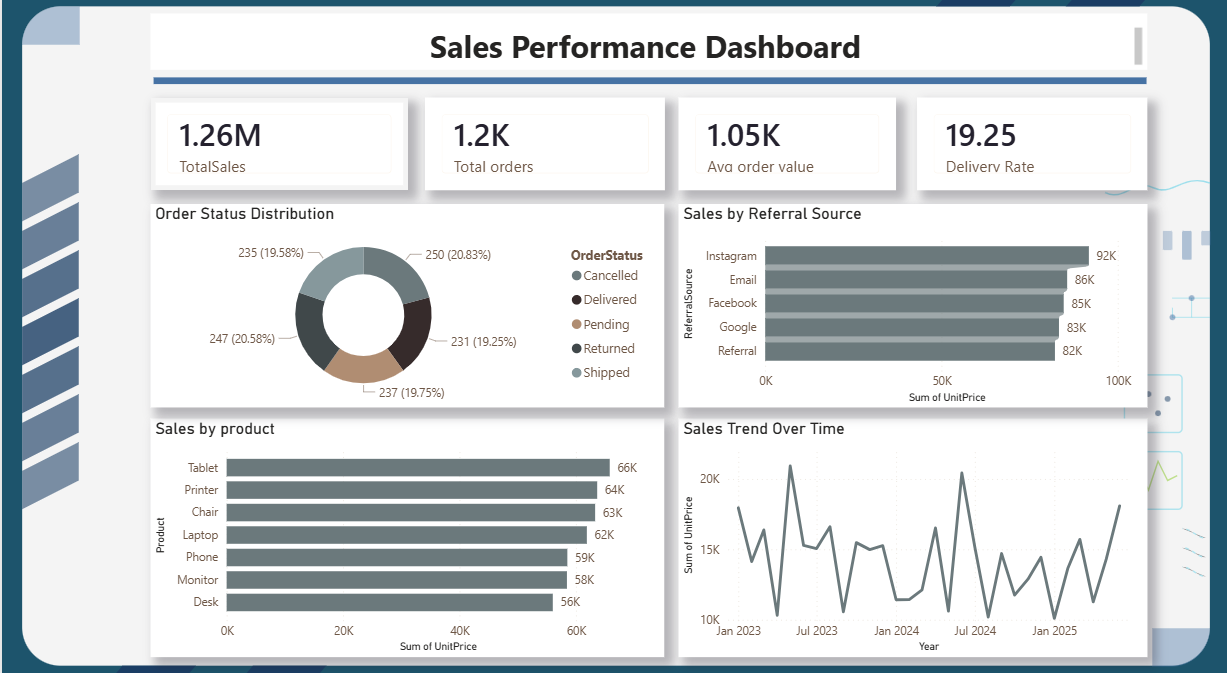

The dashboard page shown, as its layout file describes it:
{"tool":"powerbi","page":{"name":"Page 1","canvas":[1280,720],"ordinal":0},"visuals":[{"type":"cardVisual","fields":{"Data":["Sum(Fact_Sales.TotalPrice)"]},"box":[155,111.7,268.3,96.7],"z":0},{"type":"cardVisual","fields":{"Data":["Count(Fact_Sales.OrderID)"]},"box":[440,111.7,250,96.7],"z":1000},{"type":"cardVisual","fields":{"Data":["Fact_Sales.Delivery Rate"]},"box":[953.3,111.7,240,96.7],"z":2000},{"type":"cardVisual","fields":{"Data":["Avg(Fact_Sales.TotalPrice)"]},"box":[705,111.7,226.7,96.7],"z":3000},{"type":"clusteredBarChart","title":"Sales by product","fields":{"Category":["Fact_Sales.Product"],"Y":["Sum(Fact_Sales.UnitPrice)"]},"box":[155,445,535,248.3],"z":3001},{"type":"lineChart","title":"Sales Trend Over Time","fields":{"Category":["Fact_Sales.Date.Variation.Date Hierarchy.Year","Fact_Sales.Date.Variation.Date Hierarchy.Quarter","Fact_Sales.Date.Variation.Date Hierarchy.Month","Fact_Sales.Date.Variation.Date Hierarchy.Day"],"Y":["Sum(Fact_Sales.UnitPrice)"]},"box":[705,445,488.3,248.3],"z":3002},{"type":"donutChart","title":"Order Status Distribution","fields":{"Series":["Fact_Sales.OrderStatus"],"Y":["CountNonNull(Fact_Sales.OrderID)"]},"box":[155,221.7,535,211.7],"z":3003},{"type":"barChart","title":"Sales by Referral Source","fields":{"Category":["Fact_Sales.ReferralSource"],"Y":["Sum(Fact_Sales.UnitPrice)"]},"box":[705,221.7,488.3,211.7],"z":3004},{"type":"textbox","box":[155,23.3,1038.3,58.3],"z":3005}]}

Visuals, with their boxes in screenshot pixels (x1, y1, x2, y2), scaled from the page's 1280x720 canvas onto the 1227x673 screenshot:
cardVisual - Sum(Fact_Sales.TotalPrice): 149/104/406/195
cardVisual - Count(Fact_Sales.OrderID): 422/104/661/195
cardVisual - Fact_Sales.Delivery Rate: 914/104/1144/195
cardVisual - Avg(Fact_Sales.TotalPrice): 676/104/893/195
"Sales by product" clusteredBarChart: 149/416/661/648
"Sales Trend Over Time" lineChart: 676/416/1144/648
"Order Status Distribution" donutChart: 149/207/661/405
"Sales by Referral Source" barChart: 676/207/1144/405
textbox: 149/22/1144/76
